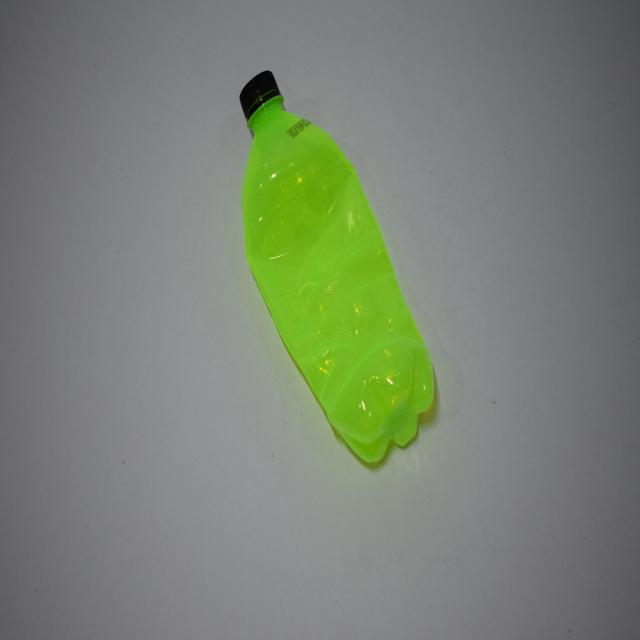bottle: (240, 68, 436, 470)
